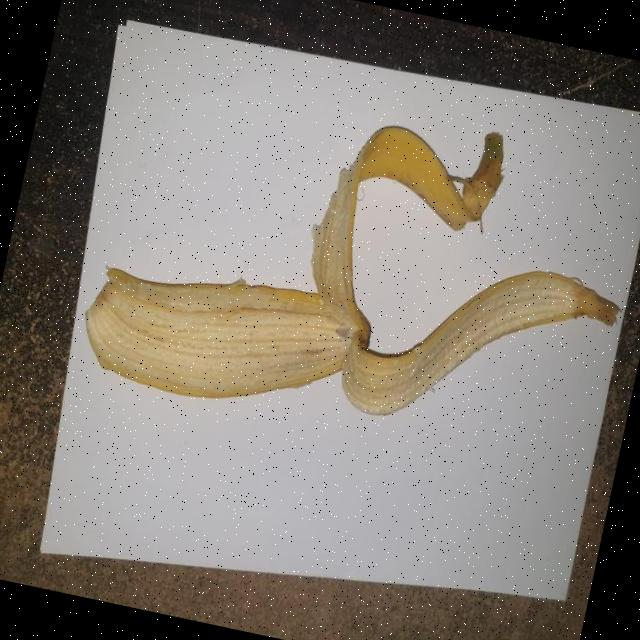banana-peel: (71, 54, 640, 480)
